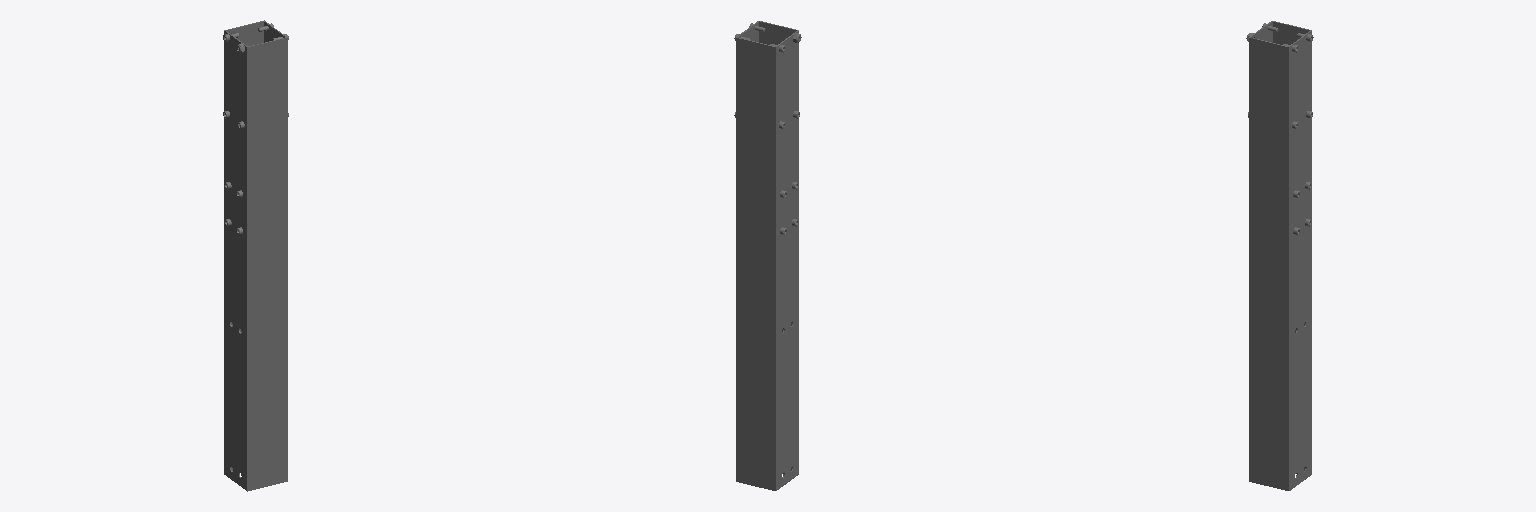
robot.urdf — Gen 3 End Effector.SLDASM:
<?xml version="1.0" encoding="utf-8"?>
<!-- This URDF was automatically created by SolidWorks to URDF Exporter! Originally created by [author] ([email redacted]) 
     Commit Version: 1.6.0-4-g7f85cfe  Build Version: 1.6.7995.38578
     For more information, please see http://wiki.ros.org/sw_urdf_exporter -->
<robot
  name="Gen 3 End Effector.SLDASM">
  <link
    name="base_link">
    <inertial>
      <origin
        xyz="0.138889524654328 0.0980630603264762 0.160956321774185"
        rpy="0 0 0" />
      <mass
        value="0.5" />
      <inertia
        ixx="0.00298101628796769"
        ixy="2.39528657204268E-06"
        ixz="2.1639648205633E-09"
        iyy="0.00647177275495484"
        iyz="-3.52684021537425E-09"
        izz="0.00363830610645635" />
    </inertial>
    <visual>
      <origin
        xyz="0 0 0"
        rpy="0 0 0" />
      <geometry>
        <mesh
          filename="package://urc_gazebo/urdf/meshes/base_link.STL" />
      </geometry>
      <material
        name="">
        <color
          rgba="0.501960784313725 0.501960784313725 0.501960784313725 1" />
      </material>
    </visual>
    <collision>
      <origin
        xyz="0 0 0"
        rpy="0 0 0" />
      <geometry>
        <mesh
          filename="package://urc_gazebo/urdf/meshes/base_link.STL" />
      </geometry>
    </collision>
  </link>
</robot>

--- Render facts (derived) ---
The picture shows the robot from 3 angles, left to right: view 1: azimuth 30°, elevation 25°; view 2: azimuth 150°, elevation 25°; view 3: azimuth 330°, elevation 25°; orthographic projection.
Model Gen 3 End Effector.SLDASM with 1 links and 0 joints (none), rooted at base_link, posed all joints at 0.
Visible links, largest first — view 1: base_link; view 2: base_link; view 3: base_link.
Boxes of the visible links, x1,y1,x2,y2 form: base_link: (223,20,288,491); base_link: (734,21,801,490); base_link: (1246,21,1313,490).
Bounding box of the posed robot: 0.0616 × 0.0508 × 0.5339 m (x, y, z).
1 mesh visuals loaded from 1 distinct referenced files (1 binary STL).